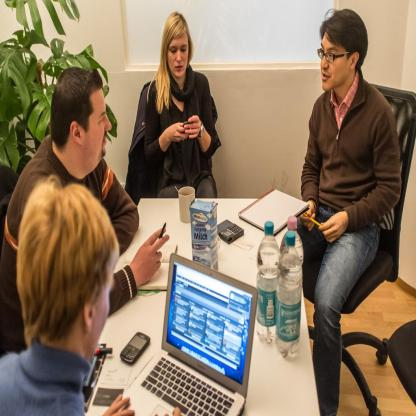board: (118, 260, 259, 416), (276, 232, 302, 358), (256, 221, 281, 342), (190, 199, 218, 272), (281, 217, 303, 265)
